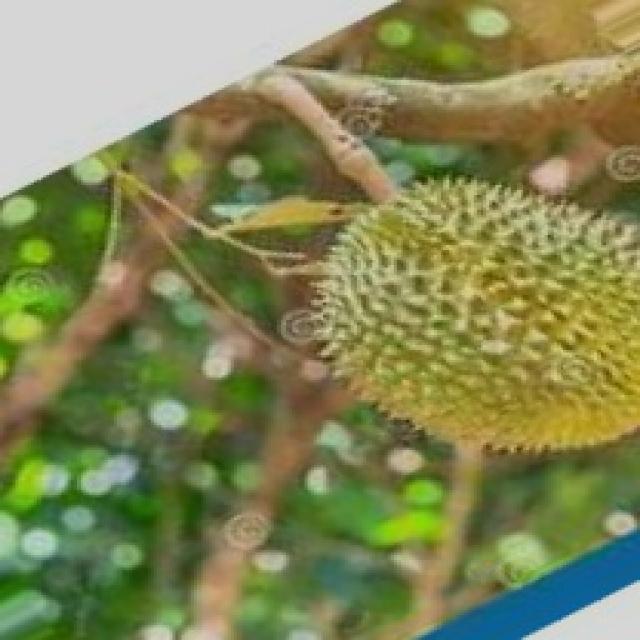fruit: (267, 135, 640, 512)
